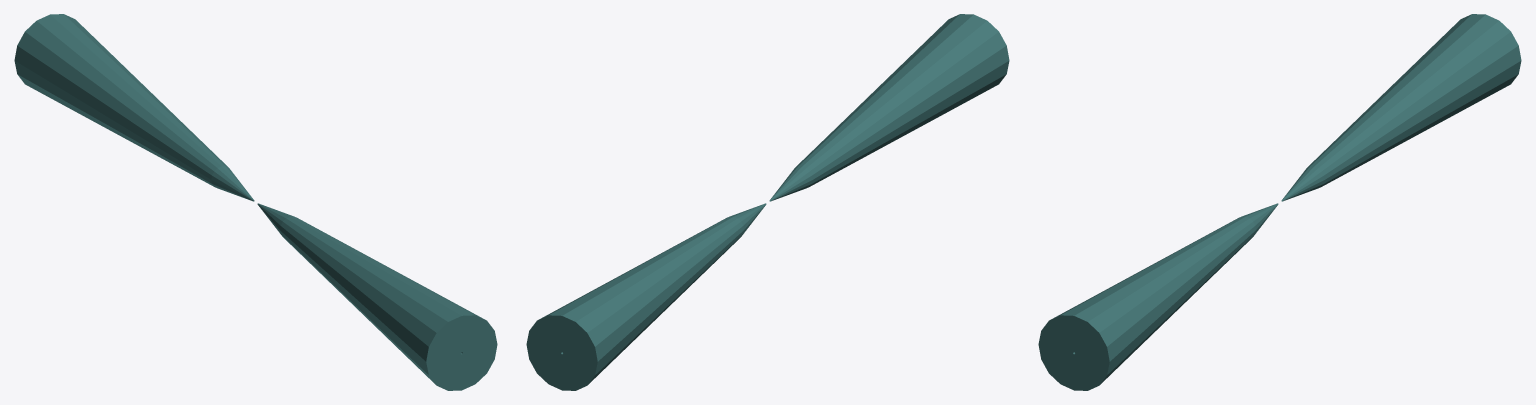
The model's file is Nozzle.gltf.
3 renders of one model, left to right at view 1: azimuth 30°, elevation 25°; view 2: azimuth 150°, elevation 25°; view 3: azimuth 330°, elevation 25°, orthographic.
Visible parts, largest first — view 1: NozzleBCH_left_0, NozzleBCH_right_0, NozzleW_right_0, NozzleW_left_0; view 2: NozzleBCH_right_0, NozzleBCH_left_0, NozzleW_left_0, NozzleW_right_0; view 3: NozzleBCH_left_0, NozzleBCH_right_0, NozzleW_right_0, NozzleW_left_0.
Part boxes in pixels (<box>): NozzleBCH_left_0: <box>14,14,228,186</box>; NozzleBCH_right_0: <box>280,216,497,390</box>; NozzleW_right_0: <box>257,203,491,384</box>; NozzleW_left_0: <box>211,166,254,201</box>; NozzleBCH_right_0: <box>795,14,1009,186</box>; NozzleBCH_left_0: <box>526,216,743,390</box>; NozzleW_left_0: <box>532,203,766,384</box>; NozzleW_right_0: <box>769,166,812,201</box>; NozzleBCH_left_0: <box>1307,14,1521,186</box>; NozzleBCH_right_0: <box>1038,216,1255,390</box>; NozzleW_right_0: <box>1044,203,1278,384</box>; NozzleW_left_0: <box>1281,166,1324,201</box>.
Bounding box in the file's own units: 1.2 × 1.2 × 11.99.
